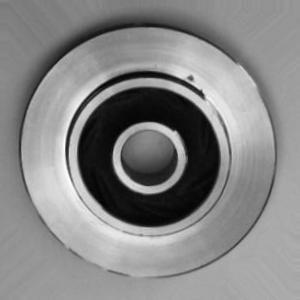defect: (170, 60, 221, 110)
